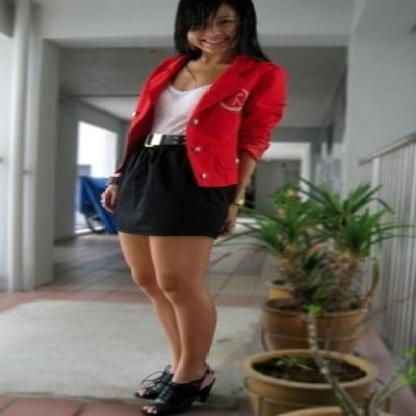jacket: (126, 56, 286, 187)
shirt: (145, 86, 210, 146)
shoe: (138, 370, 192, 416)
skirt: (112, 144, 229, 238)
